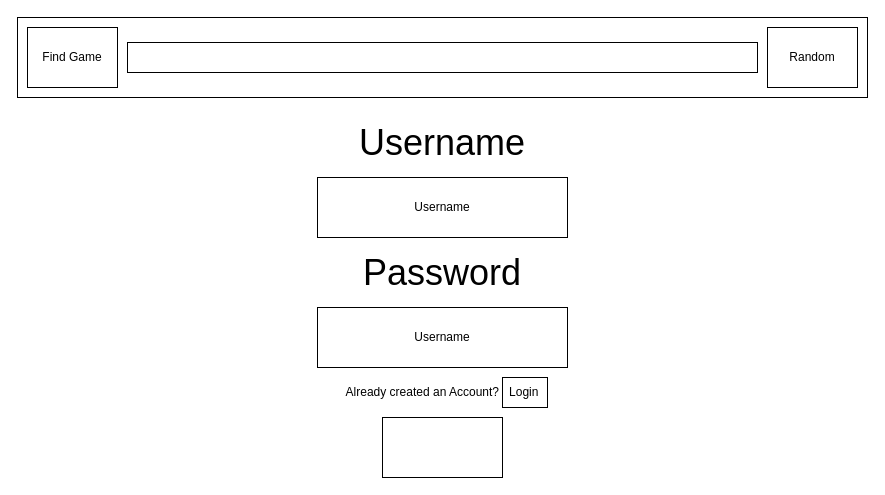
The diagram is 885 pixels wide and 495 high, and some of its shapes have lost their labels. The centre of each missing label's shape, as x and y in pixels:
Create Account: [442,447]
Search:: [442,57]
